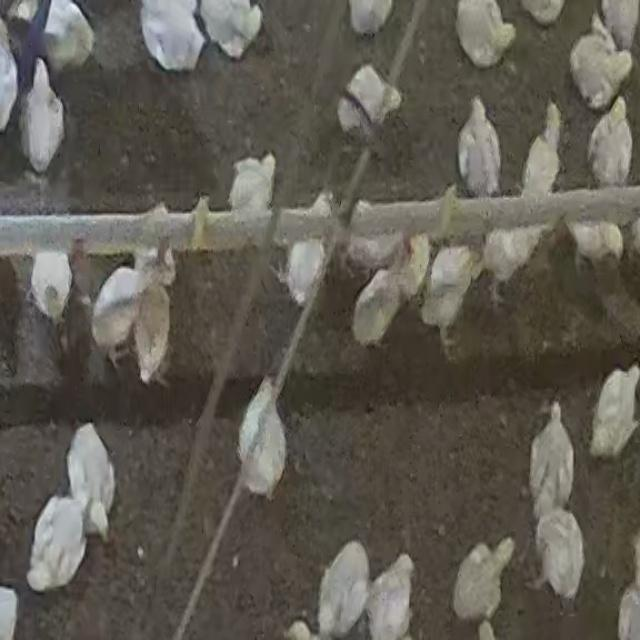chicken: (230, 372, 292, 502), (63, 421, 121, 542), (525, 395, 578, 517), (22, 493, 86, 592), (91, 262, 146, 370), (451, 537, 515, 627), (421, 245, 480, 340), (19, 58, 66, 174), (316, 540, 370, 638), (532, 507, 586, 604), (139, 1, 209, 73), (351, 267, 410, 349), (589, 364, 640, 458), (363, 552, 416, 640), (457, 94, 503, 195), (340, 62, 402, 136), (587, 96, 634, 188), (520, 101, 564, 199), (480, 226, 542, 295), (455, 1, 516, 69), (196, 1, 262, 61), (222, 146, 284, 209), (42, 1, 96, 68), (29, 250, 75, 326), (283, 239, 327, 307)
